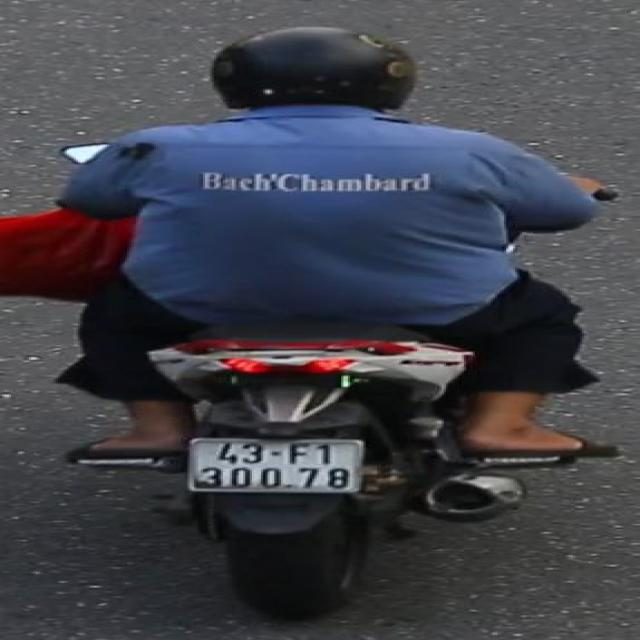LP: (182, 433, 374, 501)
helmet: (206, 22, 430, 129)
